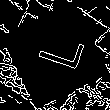L_W: (26, 32, 84, 78)
